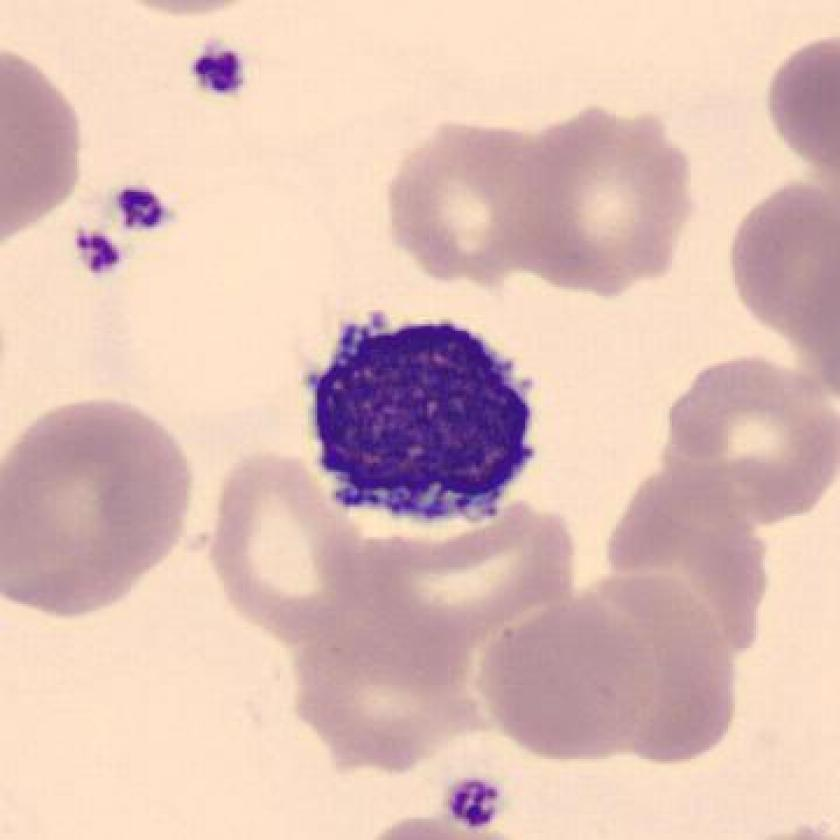lymphocyte: (291, 295, 550, 547)
